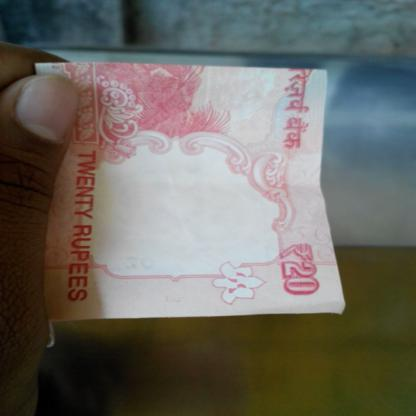Old20Back: (41, 63, 334, 315)
